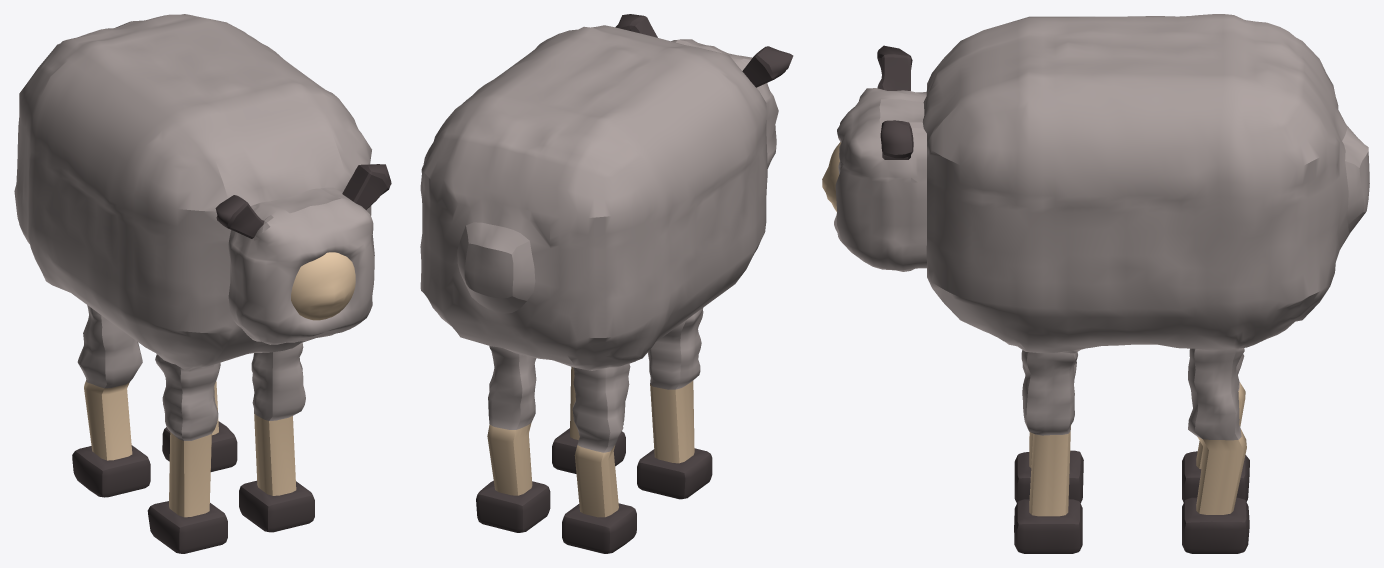
Rendered from SM_Sheepy_Low.fbx.
3 views of the same model, side by side, from view 1: azimuth 30°, elevation 25°; view 2: azimuth 150°, elevation 25°; view 3: azimuth 270°, elevation 25° (orthographic). The views are drawn at different scales.
Parts seen in each view (by area): view 1: SM_Sheepy_Low; view 2: SM_Sheepy_Low; view 3: SM_Sheepy_Low.
Boxes of the visible parts, x1,y1,x2,y2 form: SM_Sheepy_Low: (14, 14, 391, 553); SM_Sheepy_Low: (420, 14, 793, 553); SM_Sheepy_Low: (822, 14, 1369, 553).
Size of the model in its own units: 1.59 by 2.75 by 2.86.
